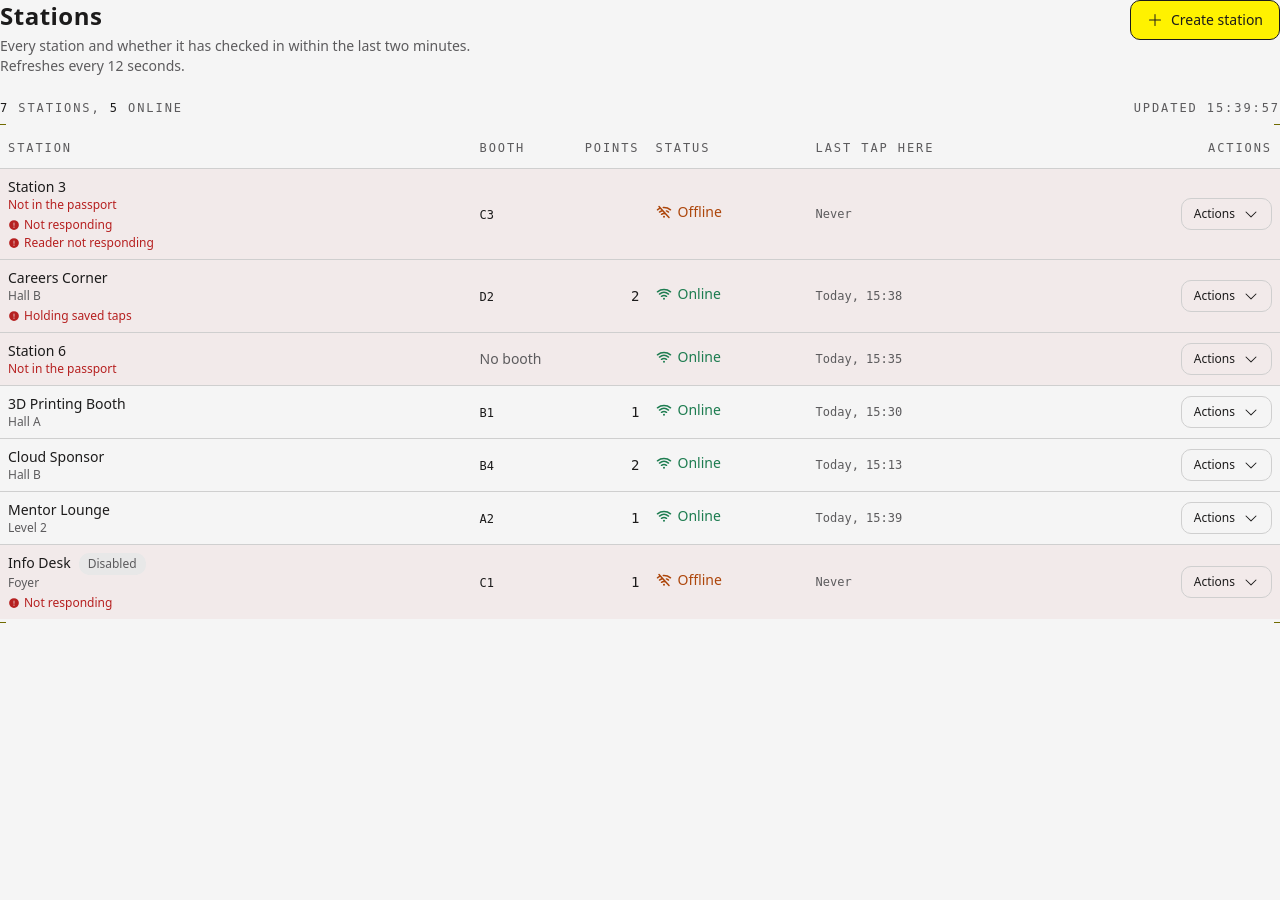
passport settings on the station board › changes a station's settings and shows the new points on the board
The image size is (1280, 900).
Click the button "Actions" in the row of "3D Printing Booth" at {"x": 1226, "y": 412}, box [1181,396,1272,428]
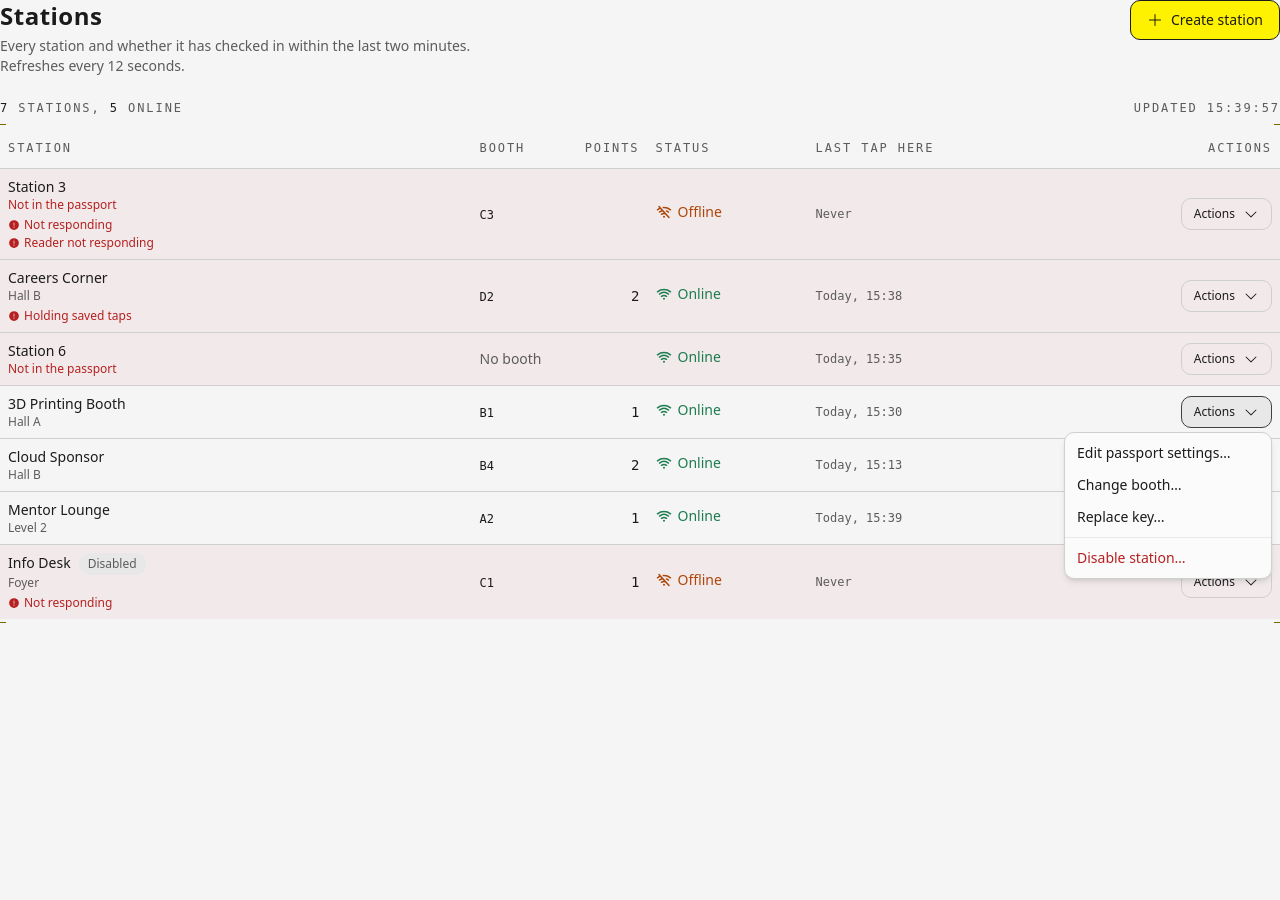
Expected: the menu is shown, [1064,432,1272,579]
Click the menu item "Edit passport settings…" at {"x": 1154, "y": 452}, box [1077,443,1230,462]
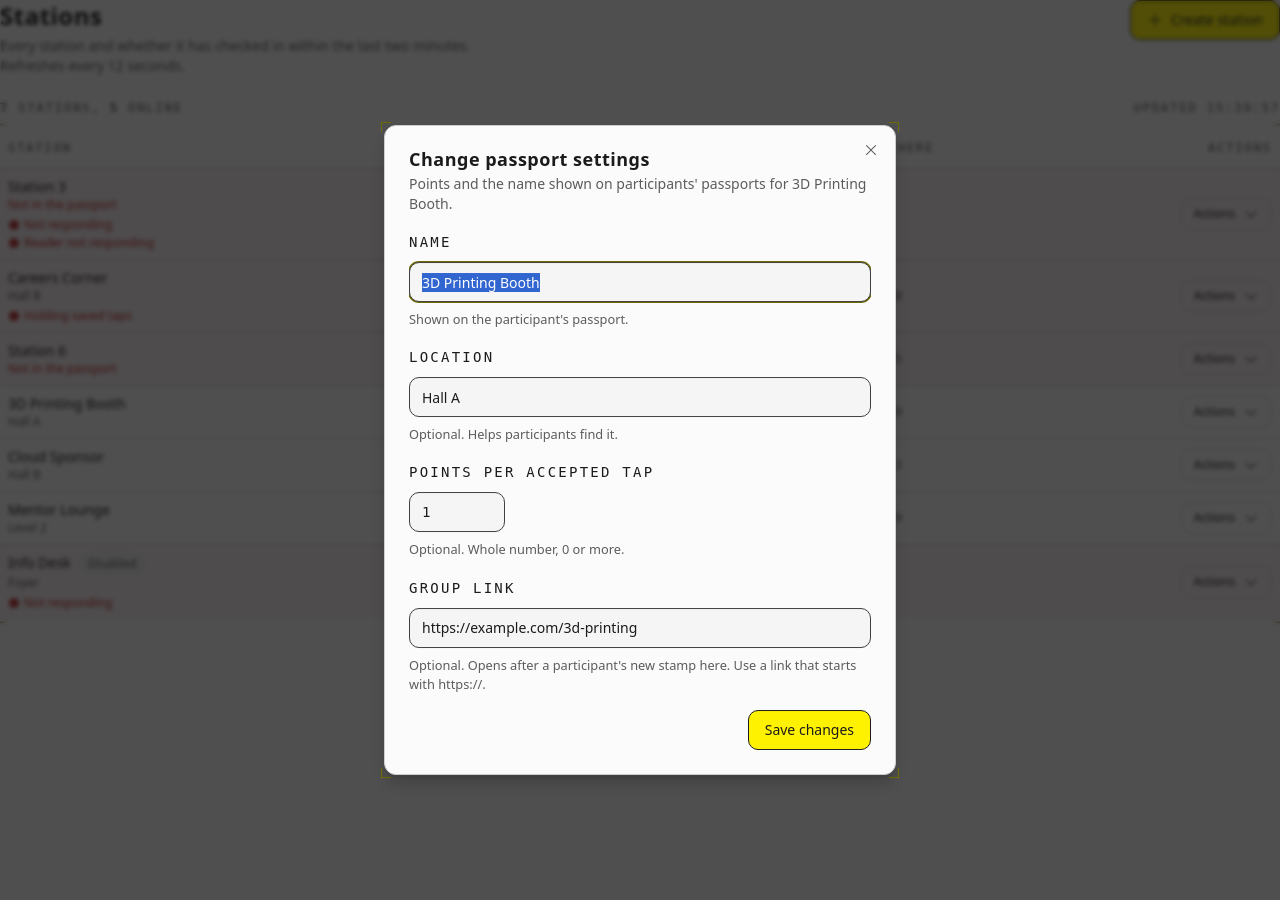
Replace the text in the field labelled "Points per accepted tap" with "4" at {"x": 457, "y": 512}, box [409,492,505,532]
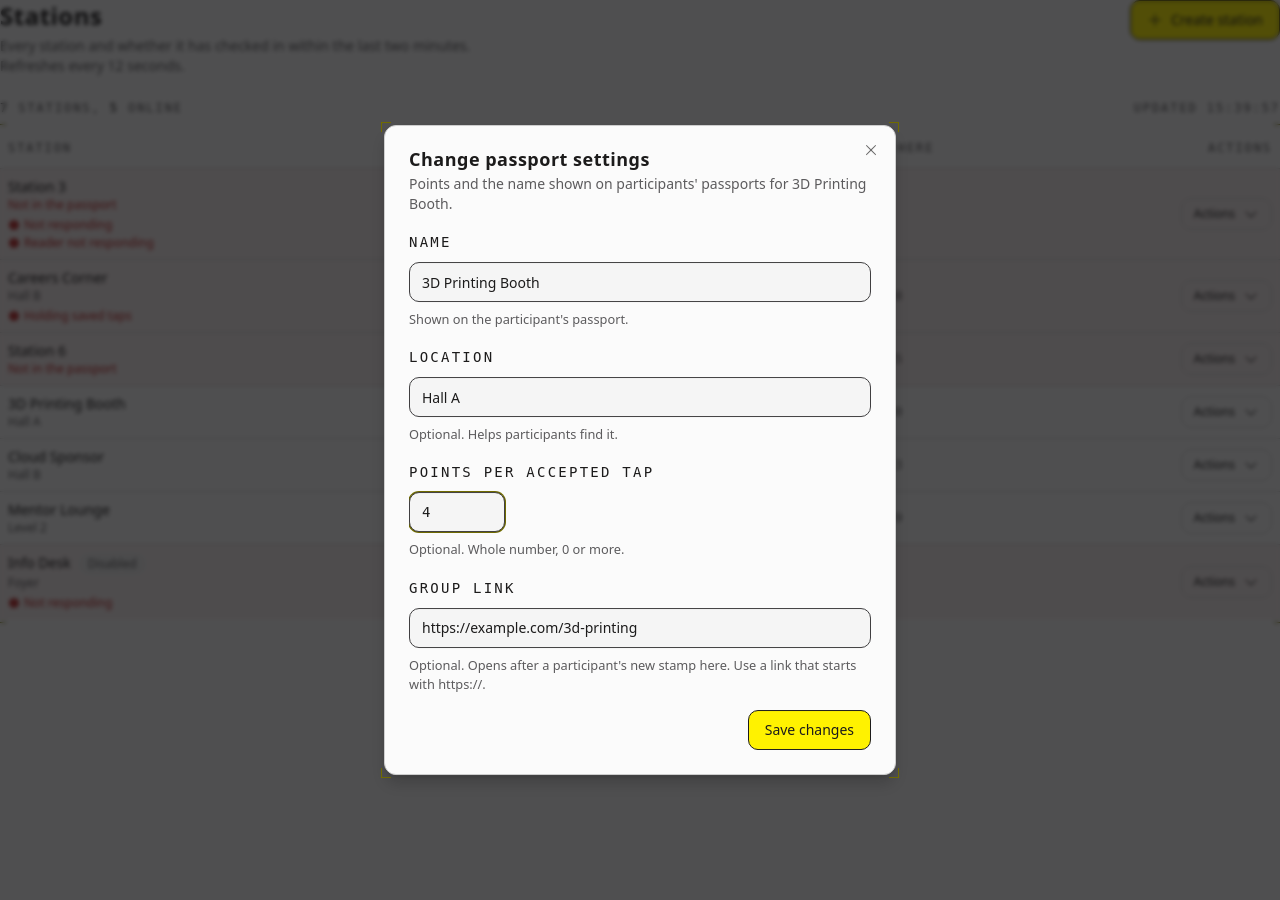
Click the button "Save changes" at {"x": 809, "y": 730}, box [748,710,871,750]
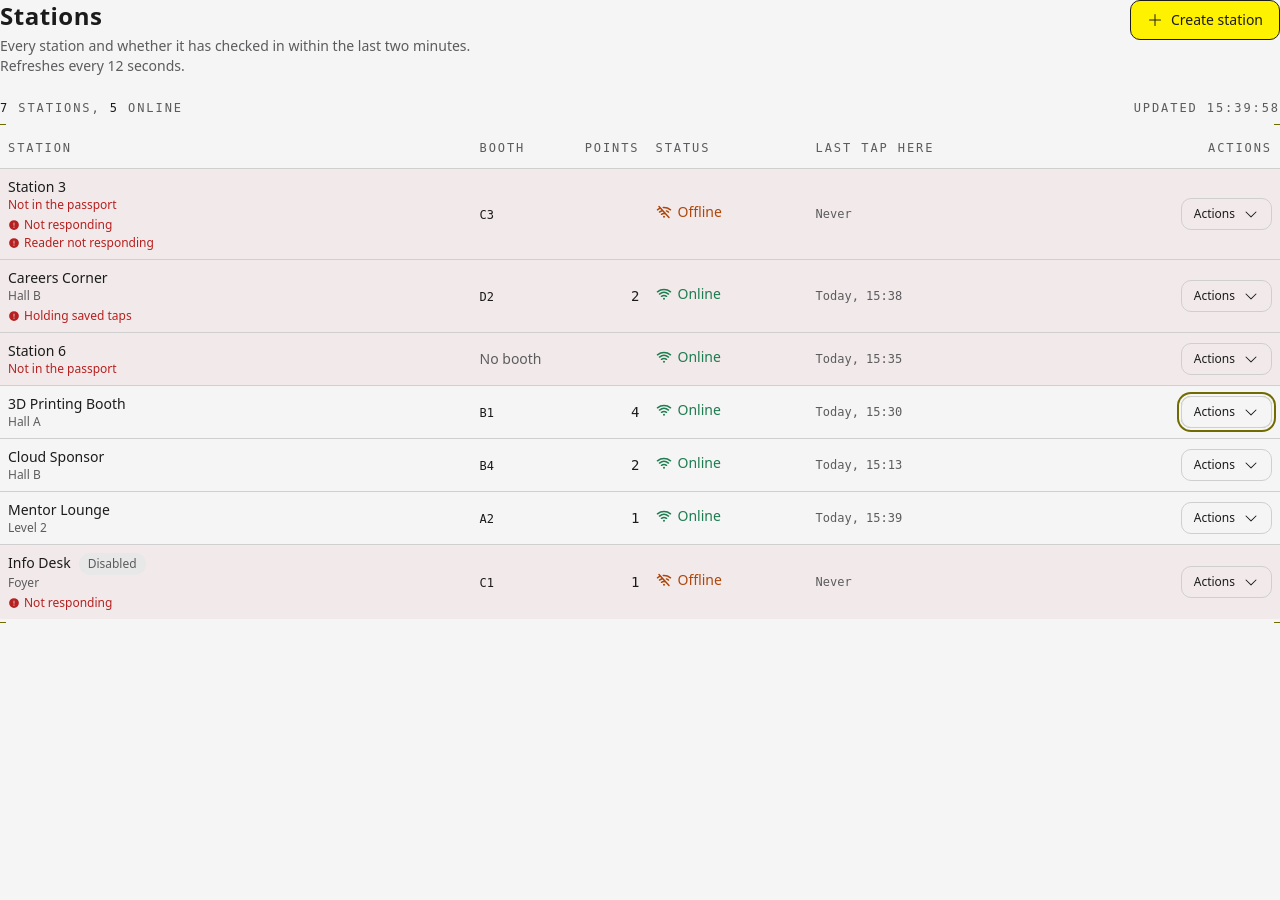
Expected: the text "3D Printing Booth" shows "4", [631,404,640,420]
